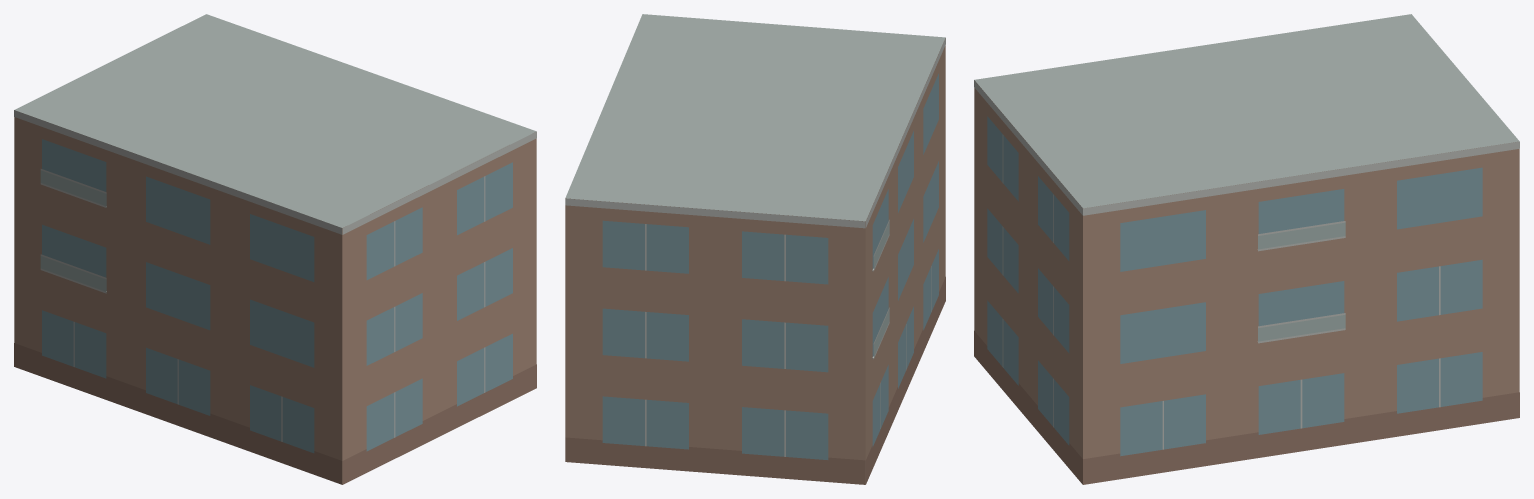
The model's file is survey-upis-32702944.glb.
3 views of the same model, side by side, from view 1: azimuth 30°, elevation 25°; view 2: azimuth 150°, elevation 25°; view 3: azimuth 270°, elevation 25° (orthographic). The views are drawn at different scales.
Visible parts, largest first — view 1: survey-upis-32702944.tmp; view 2: survey-upis-32702944.tmp; view 3: survey-upis-32702944.tmp.
Part boxes in pixels (left/top/right/bottom): survey-upis-32702944.tmp: left=14, top=14, right=536, bottom=484; survey-upis-32702944.tmp: left=565, top=14, right=945, bottom=484; survey-upis-32702944.tmp: left=974, top=14, right=1519, bottom=484.
Size of the model in its own units: 13.81 by 9.15 by 16.38.
